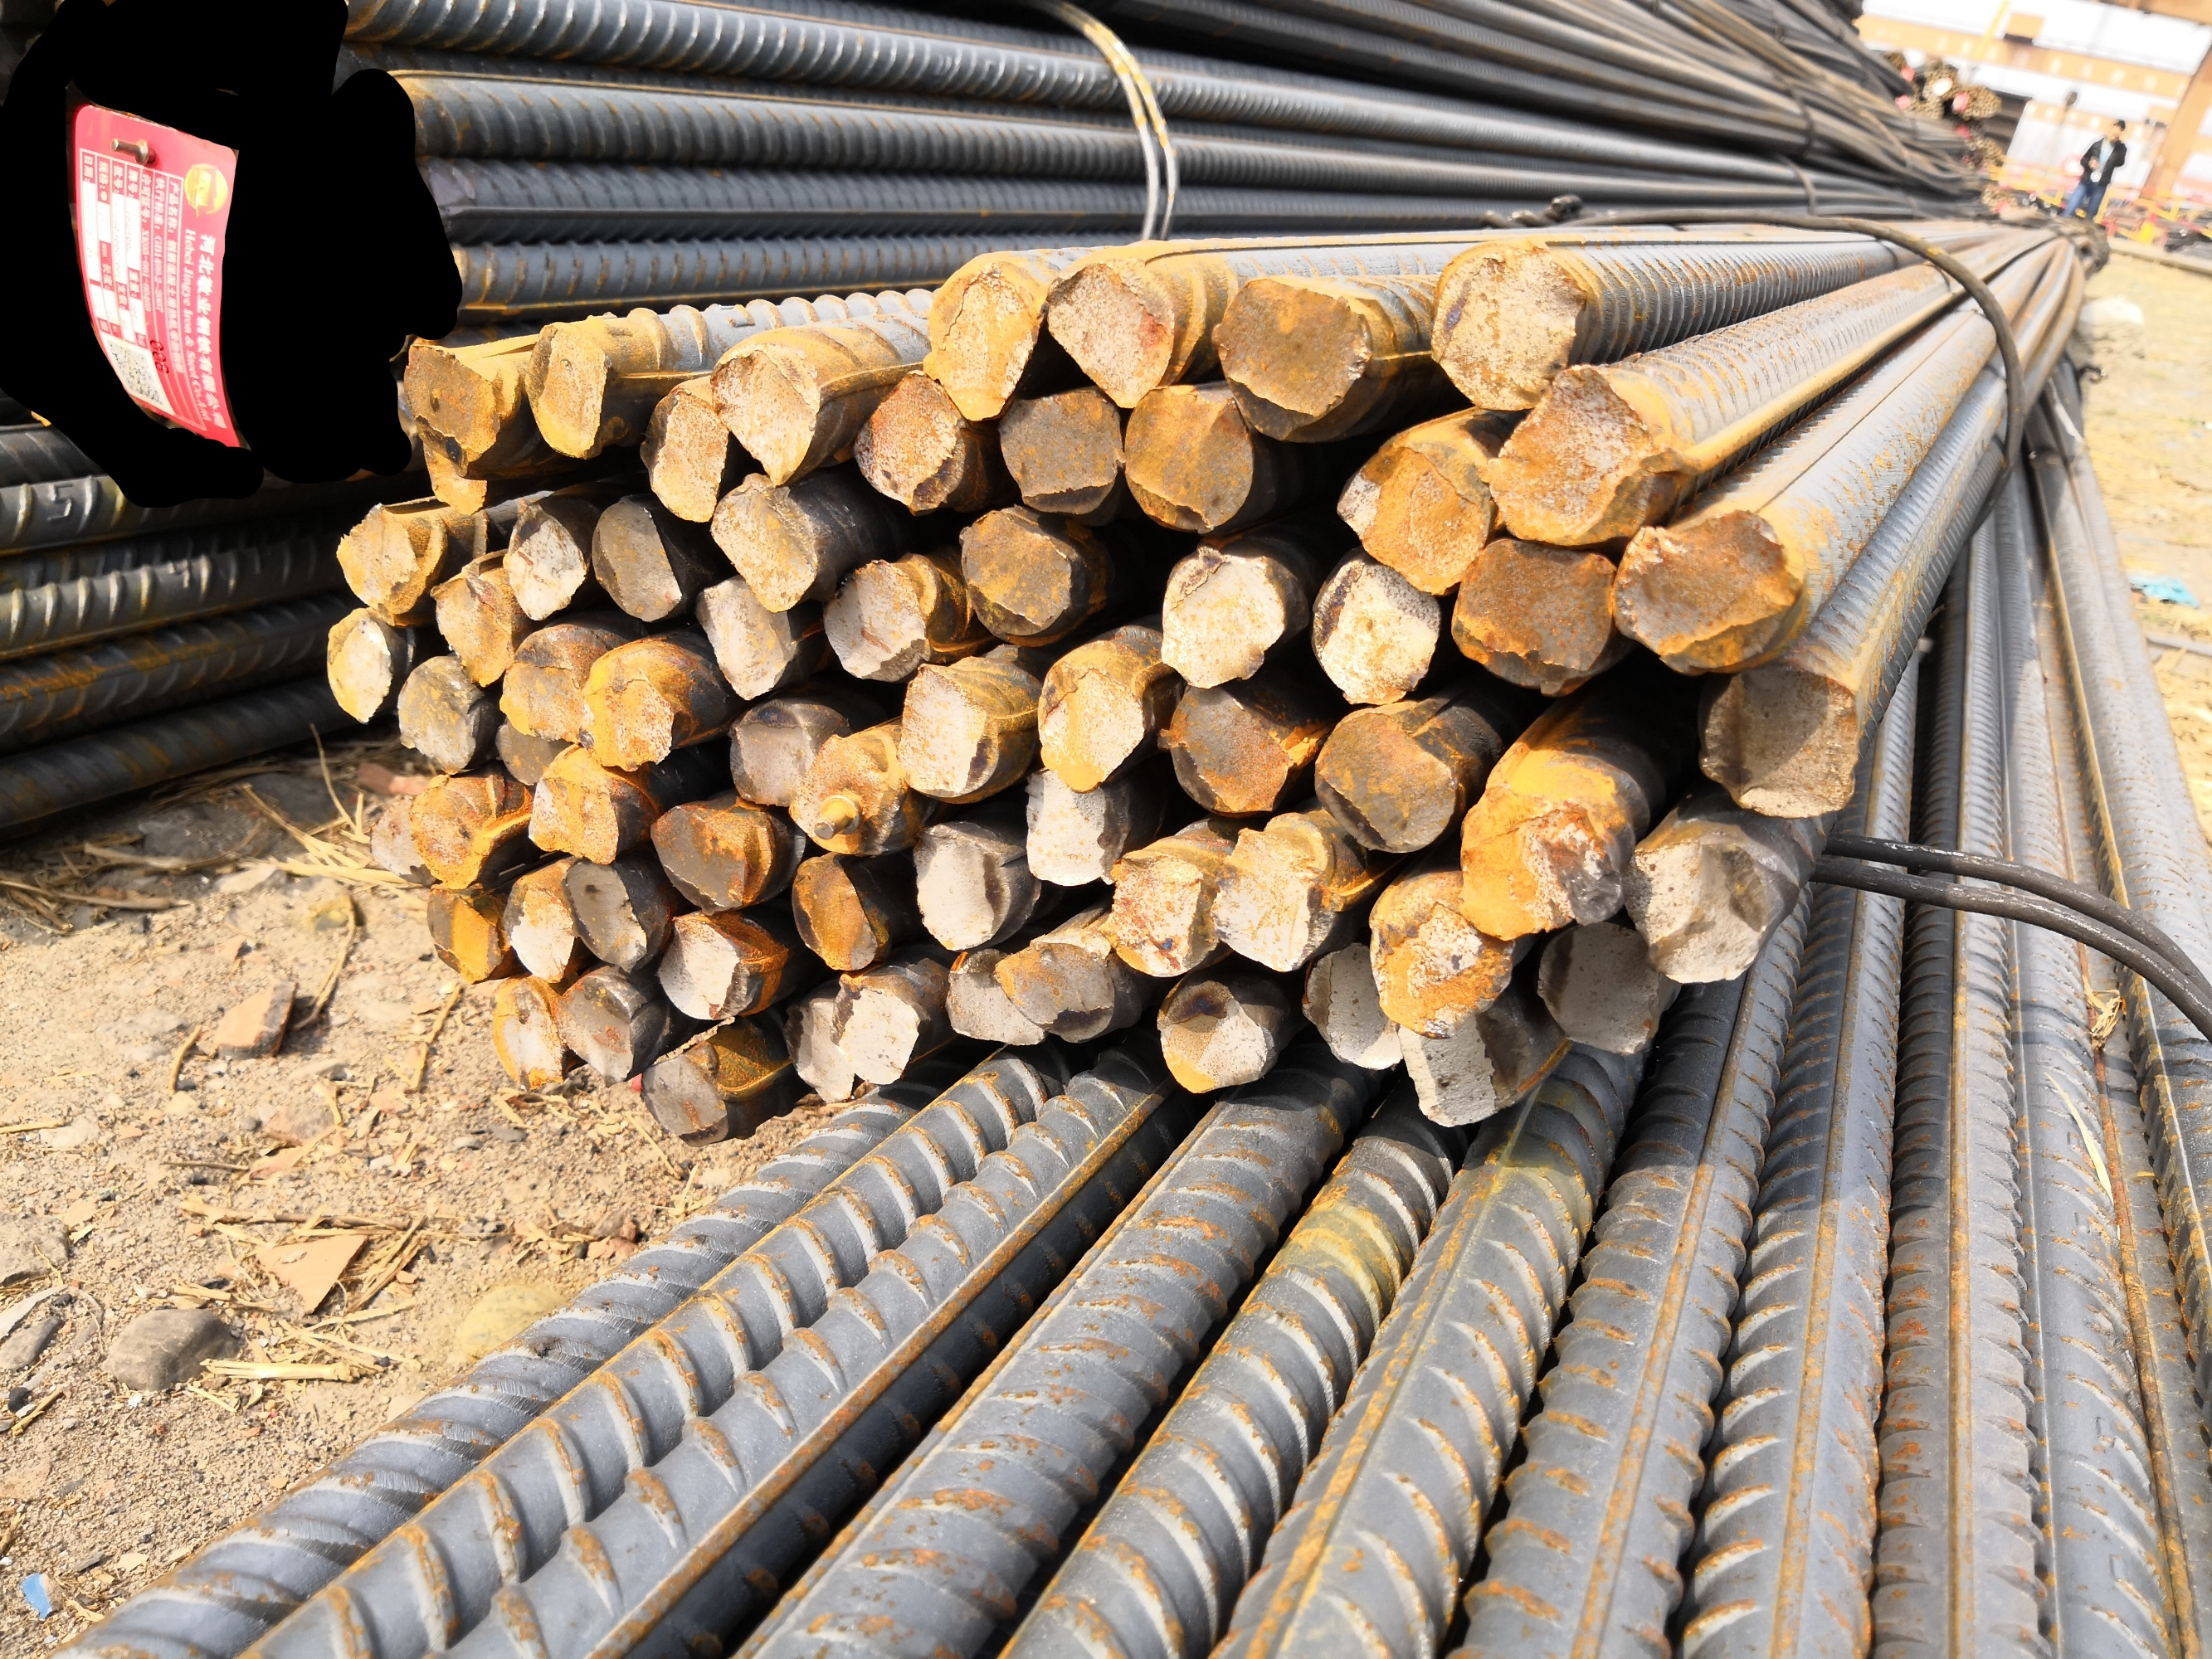rebar: (1490, 362, 1693, 549), (1609, 505, 1813, 676), (1208, 272, 1381, 446), (1426, 237, 1588, 418), (1698, 653, 1872, 821), (1443, 538, 1623, 695), (1450, 786, 1626, 941), (1330, 434, 1492, 596), (1360, 890, 1517, 1040), (1307, 706, 1459, 859), (1619, 836, 1769, 986), (1121, 380, 1262, 535), (1150, 678, 1297, 824), (1044, 254, 1180, 411), (1204, 831, 1349, 974), (1156, 542, 1293, 692), (1311, 558, 1447, 709), (922, 260, 1037, 423), (1098, 836, 1224, 981), (992, 383, 1126, 518), (847, 366, 969, 511), (706, 345, 828, 488), (955, 502, 1077, 645), (1534, 920, 1659, 1058), (708, 469, 826, 613), (1035, 648, 1149, 798), (1386, 1006, 1518, 1133), (687, 572, 804, 706), (1292, 939, 1408, 1073), (648, 802, 777, 922), (401, 336, 504, 483), (786, 727, 899, 859), (819, 554, 936, 681), (725, 697, 854, 810), (1150, 979, 1272, 1096), (898, 660, 1002, 796), (634, 380, 730, 526), (572, 650, 682, 777), (523, 321, 621, 464), (908, 823, 1013, 951), (992, 945, 1123, 1047), (328, 495, 427, 626), (586, 493, 683, 626), (1020, 763, 1121, 889), (823, 969, 922, 1089), (396, 653, 488, 782), (499, 498, 589, 626), (938, 948, 1048, 1053), (490, 629, 587, 746), (784, 854, 879, 974), (431, 556, 516, 688), (652, 911, 755, 1021), (404, 782, 500, 897), (521, 767, 629, 868), (560, 859, 650, 974), (636, 1051, 737, 1150), (553, 974, 640, 1087), (485, 983, 570, 1098), (319, 599, 394, 725), (404, 427, 502, 519), (776, 993, 856, 1105), (500, 873, 577, 986), (420, 885, 504, 985), (357, 793, 434, 885), (488, 709, 570, 788)
